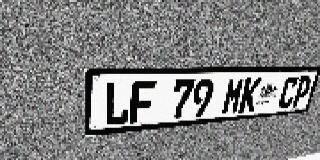7: (169, 79, 195, 120)
9: (190, 79, 215, 118)
C: (277, 76, 300, 109)
F: (129, 80, 156, 124)
K: (238, 77, 262, 113)
L: (104, 81, 131, 126)
M: (221, 78, 246, 115)
P: (290, 76, 313, 108)
